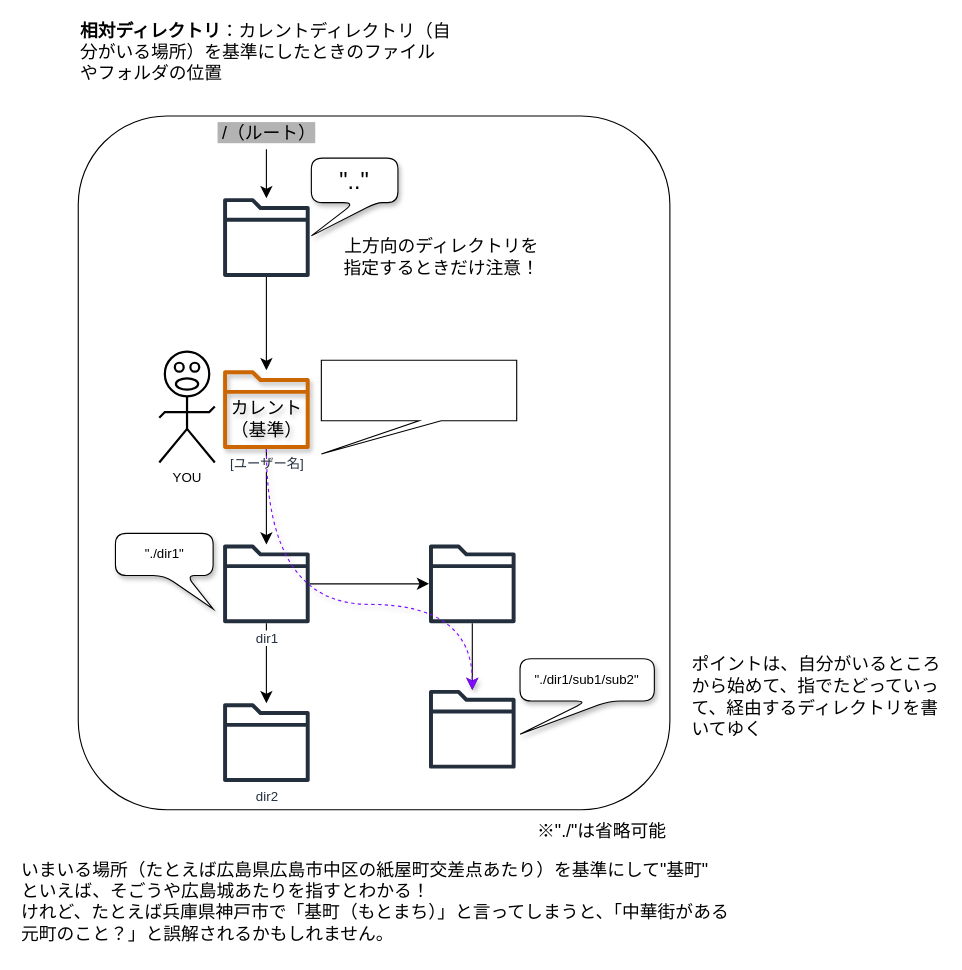
The diagram is 962 pixels wide and 970 high, and some of its shapes have lost their labels. Each missing label, with the centre of its shape:
home: the point at 266,237
Linux/Unixにおけるユーザーホーム: the point at 418,406
sub1: the point at 471,583
sub2: the point at 471,728
